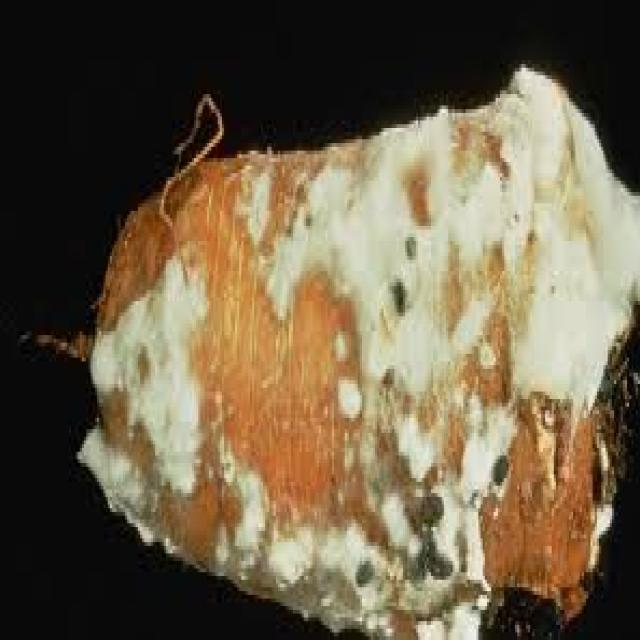Stale_Carrot: (86, 67, 640, 636)
